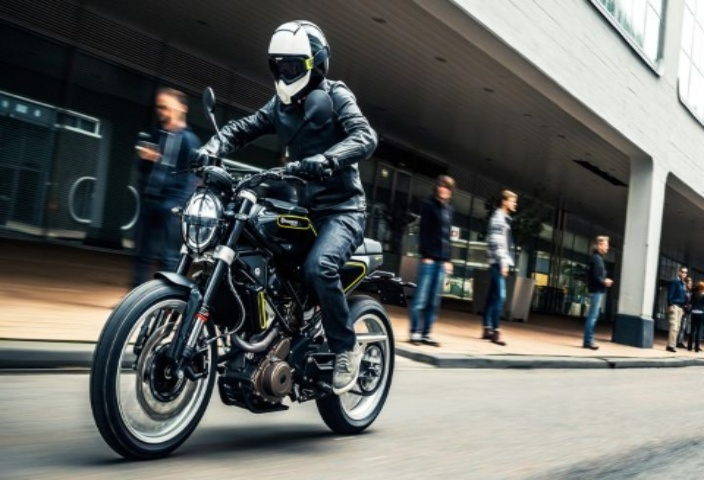motorcycle: (66, 25, 412, 459)
